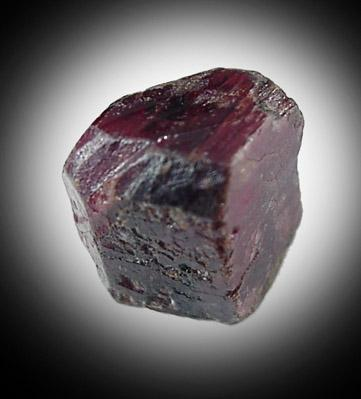tantalite: (63, 68, 305, 324)
